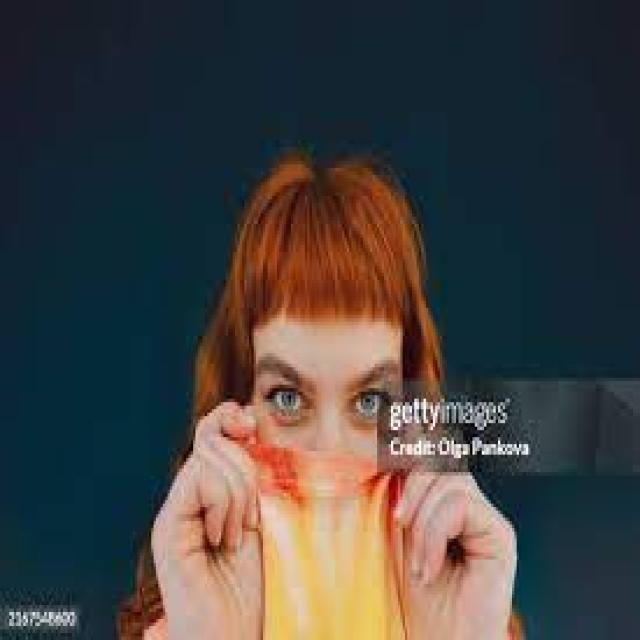8_ropa_rostro: (181, 412, 502, 640)
